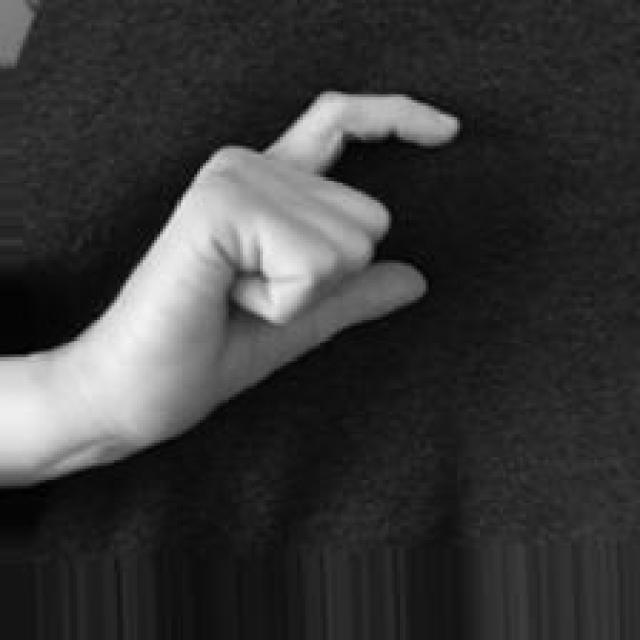C: (106, 86, 461, 451)
